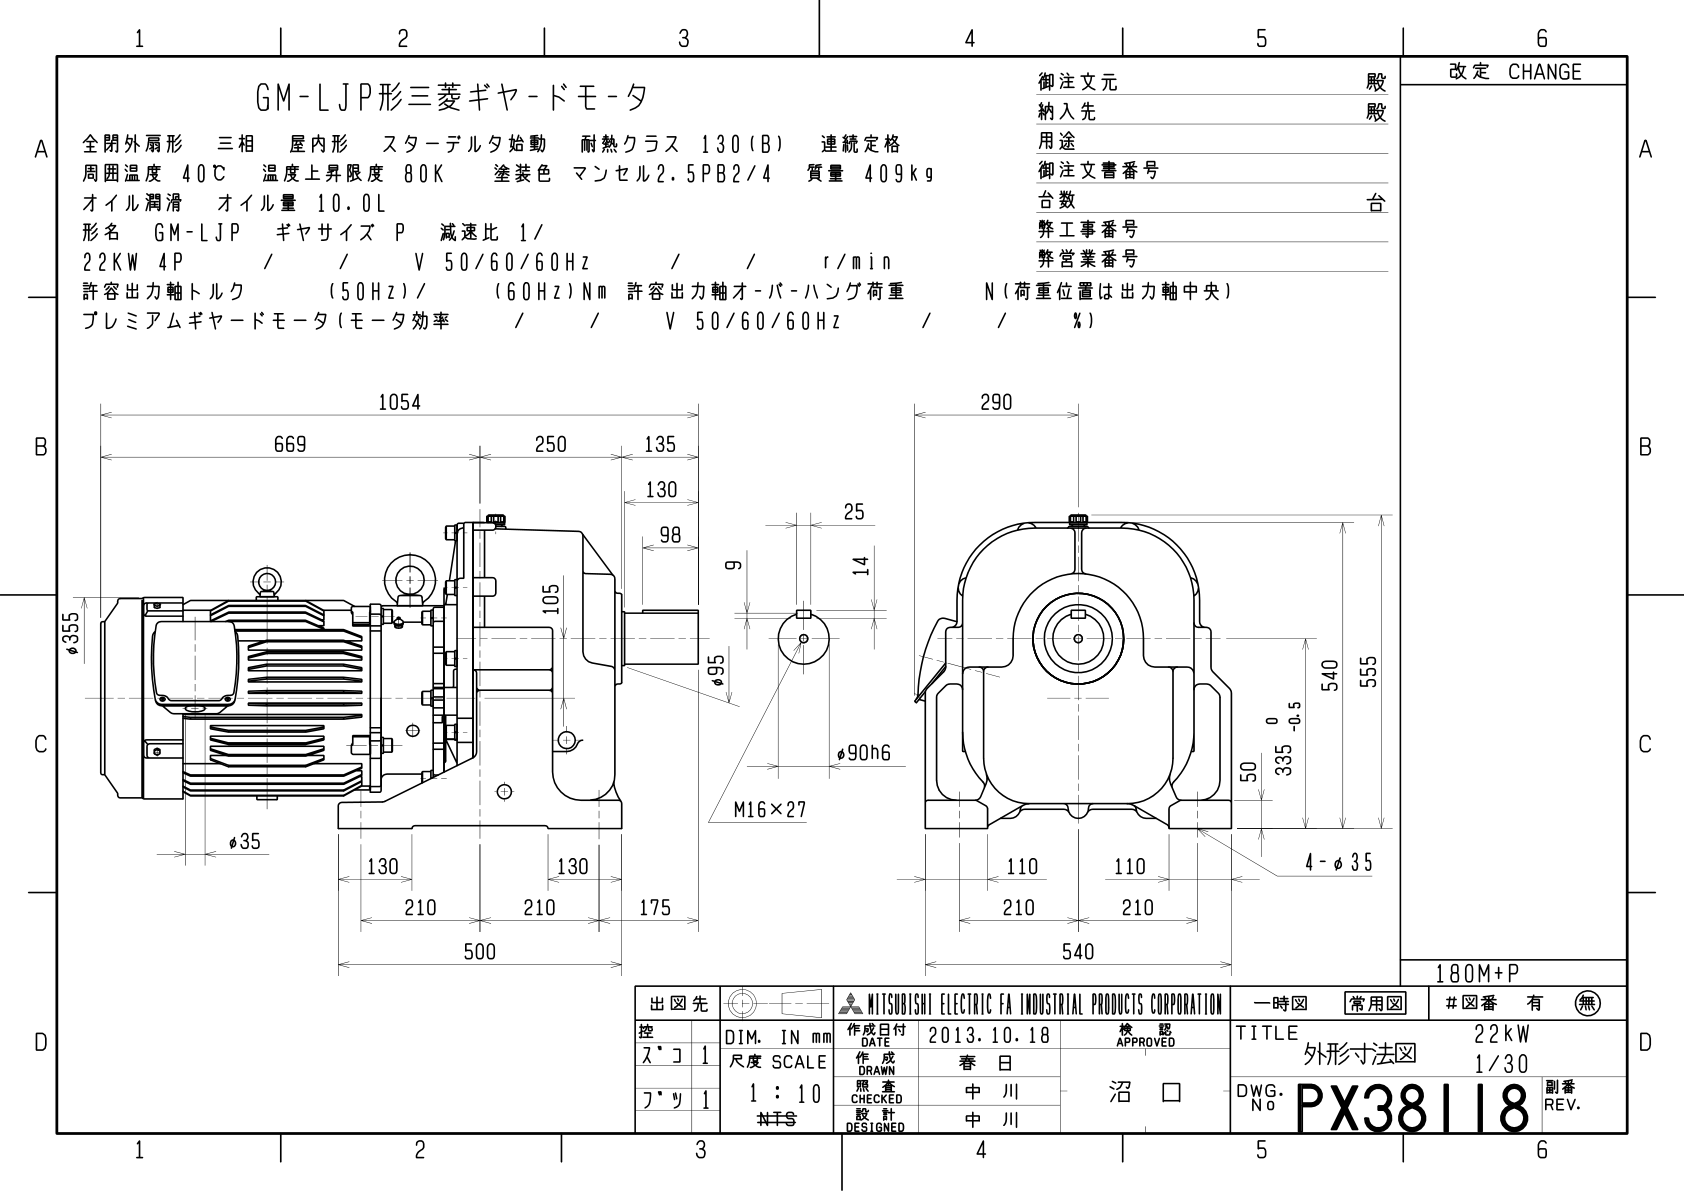GM_LJP_屋内_三相_脚: (9, 10, 1684, 1191)
